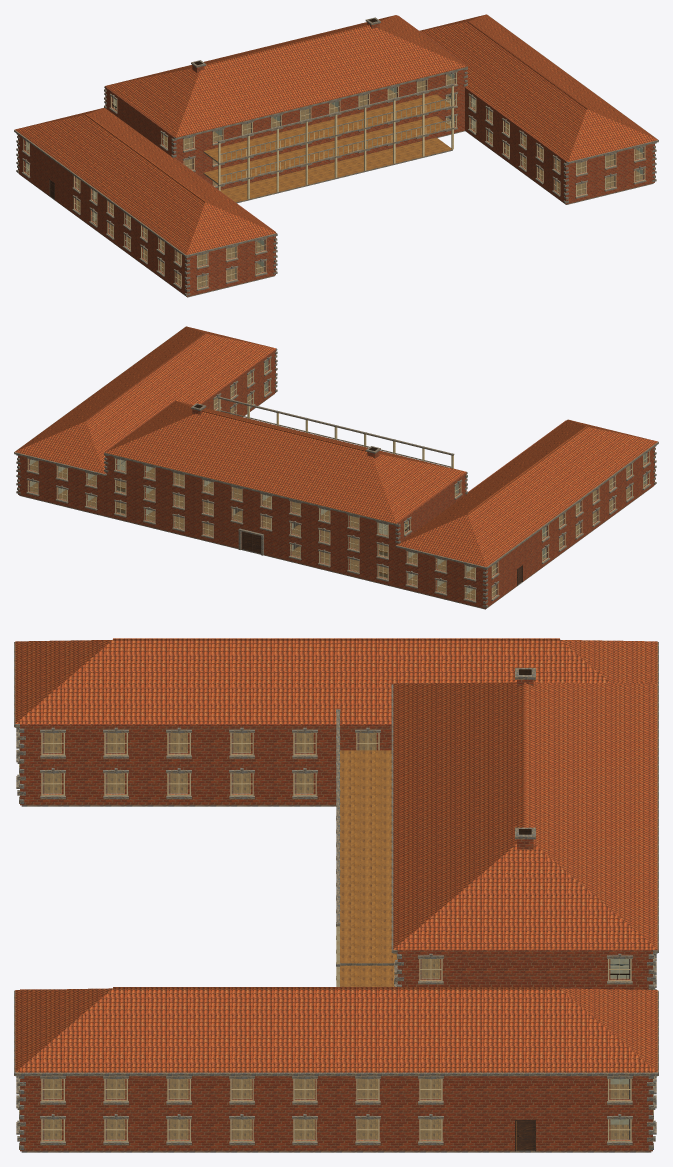
File: ellis-hospital-two.gltf
3 renders of one model, top to bottom at view 1: azimuth 30°, elevation 25°; view 2: azimuth 150°, elevation 25°; view 3: azimuth 270°, elevation 25°, orthographic. The views are drawn at different scales.
Parts seen in each view (by area): view 1: roof-L2-terracotta, roof-L3-terracotta, exterior-L0-brick, exterior-L1-brick, exterior-L2-brick, balcony-L1-wood, balcony-L2-wood, balcony-L0-wood, facade-trim-L0-stone, facade-trim-L1-sash, facade-trim-L0-sash, facade-trim-L1-stone (+20 smaller); view 2: roof-L2-terracotta, roof-L3-terracotta, exterior-L0-brick, exterior-L1-brick, exterior-L2-brick, glazing-L1-glass, facade-trim-L1-sash, facade-trim-L0-stone, glazing-L0-glass, facade-trim-L0-sash, facade-trim-L1-stone, floor-L1-wood (+12 smaller); view 3: roof-L2-terracotta, roof-L3-terracotta, exterior-L0-brick, exterior-L1-brick, balcony-L2-wood, exterior-L2-brick, glazing-L1-glass, glazing-L0-glass, floor-L1-wood, floor-L0-wood, roof-trim-L2-stone, facade-trim-L1-stone (+13 smaller).
Boxes of the visible parts, box(x1,y1,x2,y2) form: roof-L2-terracotta: box(15, 14, 657, 254); roof-L3-terracotta: box(105, 15, 466, 137); exterior-L0-brick: box(18, 110, 654, 296); exterior-L1-brick: box(18, 88, 654, 275); exterior-L2-brick: box(105, 69, 466, 158); balcony-L1-wood: box(204, 116, 450, 183); balcony-L2-wood: box(204, 94, 451, 162); balcony-L0-wood: box(220, 137, 451, 202); facade-trim-L0-stone: box(16, 113, 656, 295); facade-trim-L1-sash: box(23, 94, 645, 267); facade-trim-L0-sash: box(23, 115, 645, 289); facade-trim-L1-stone: box(16, 92, 656, 274); roof-L2-terracotta: box(15, 326, 657, 566); roof-L3-terracotta: box(105, 401, 466, 523); exterior-L0-brick: box(18, 372, 654, 608); exterior-L1-brick: box(18, 351, 654, 587); exterior-L2-brick: box(105, 455, 466, 544); glazing-L1-glass: box(29, 360, 647, 578); facade-trim-L1-sash: box(27, 359, 649, 579); facade-trim-L0-stone: box(16, 373, 656, 607); glazing-L0-glass: box(29, 382, 647, 599); facade-trim-L0-sash: box(27, 380, 649, 601); facade-trim-L1-stone: box(16, 351, 656, 586); floor-L1-wood: box(30, 369, 645, 577); roof-L2-terracotta: box(15, 639, 657, 1072); roof-L3-terracotta: box(393, 682, 657, 950); exterior-L0-brick: box(20, 767, 652, 1151); exterior-L1-brick: box(20, 727, 652, 1110); balcony-L2-wood: box(340, 750, 396, 963); exterior-L2-brick: box(397, 952, 652, 989); glazing-L1-glass: box(43, 733, 629, 1099); glazing-L0-glass: box(43, 773, 629, 1139); floor-L1-wood: box(44, 733, 628, 1098); floor-L0-wood: box(44, 773, 628, 1149); roof-trim-L2-stone: box(14, 642, 658, 1076); facade-trim-L1-stone: box(16, 727, 656, 1109).
Size of the model in its own units: 48.73 by 9.88 by 30.73.
9 materials, 8 textured.
